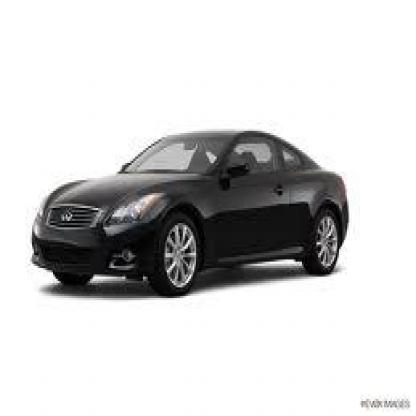Vehicle: (31, 131, 356, 298)
